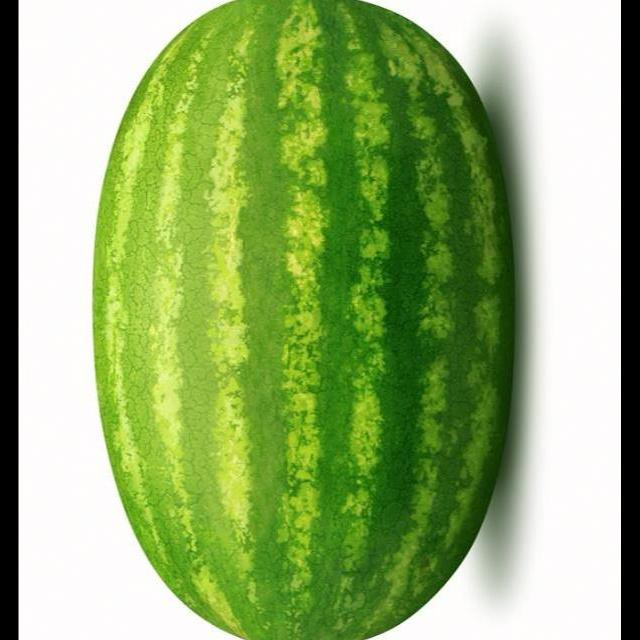watermelon: (108, 0, 508, 640)
